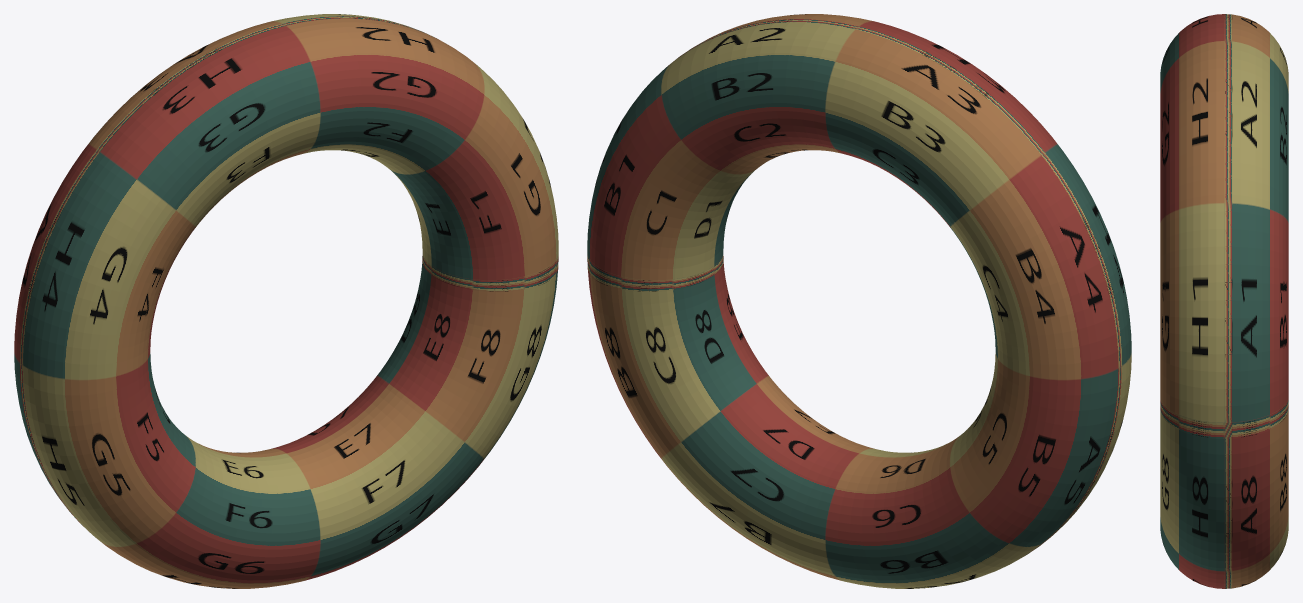
File: texture_torus_R0_r1.glb
3 renders of one model, left to right at view 1: azimuth 30°, elevation 25°; view 2: azimuth 150°, elevation 25°; view 3: azimuth 270°, elevation 25°, orthographic. The views are drawn at different scales.
Visible parts, largest first — view 1: world; view 2: world; view 3: world.
Part boxes in pixels (left/top/right/bottom): world: left=14, top=14, right=558, bottom=588; world: left=587, top=14, right=1131, bottom=588; world: left=1160, top=14, right=1288, bottom=588.
Bounding box in the file's own units: 12.89 × 12.89 × 2.88.
1 material, 1 textured.
